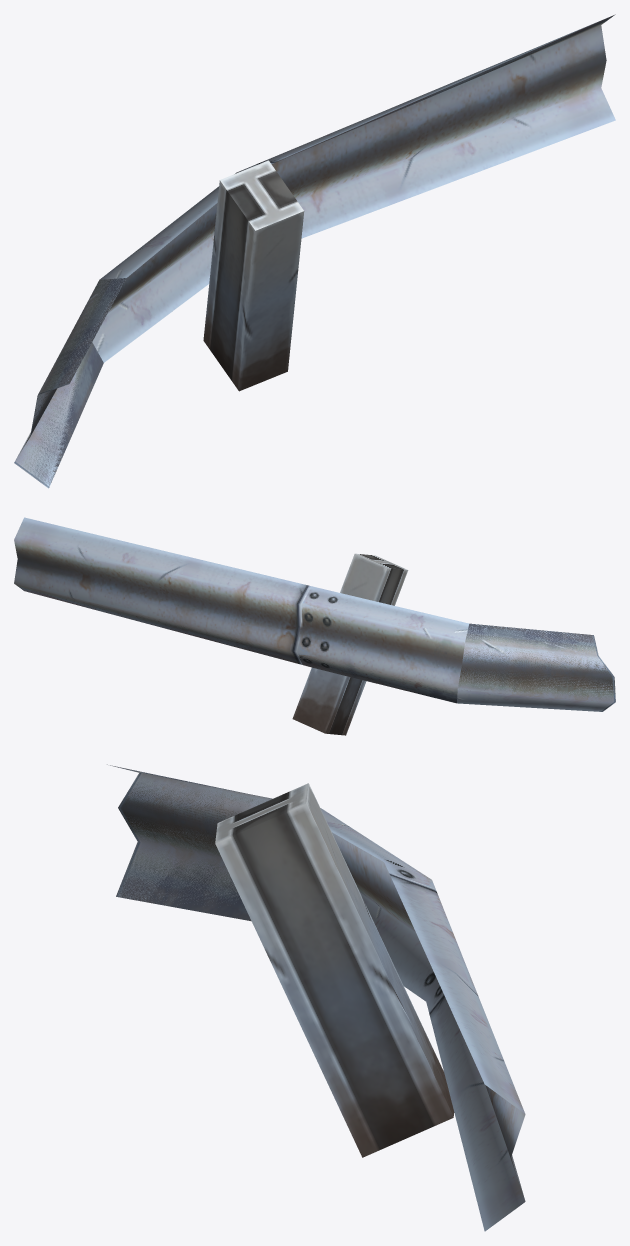
Rendered from guardRail_3m_B.fbx.
3 renders of one model, top to bottom at view 1: azimuth 30°, elevation 25°; view 2: azimuth 150°, elevation 25°; view 3: azimuth 270°, elevation 25°, orthographic. The views are drawn at different scales.
Visible parts, largest first — view 1: guardRail_3m_B; view 2: guardRail_3m_B; view 3: guardRail_3m_B.
Boxes of the visible parts, x1,y1,x2,y2 form: guardRail_3m_B: [14, 14, 615, 488]; guardRail_3m_B: [14, 517, 615, 735]; guardRail_3m_B: [107, 764, 525, 1231].
Size of the model in its own units: 273 by 87.85 by 98.7.
